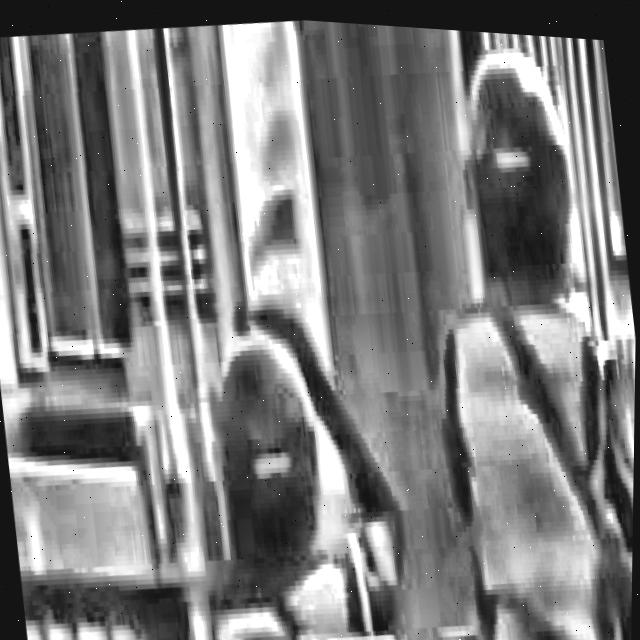Kereta: (192, 10, 640, 640)
Lokomotif: (0, 0, 382, 640)
Lori: (145, 8, 640, 640)
